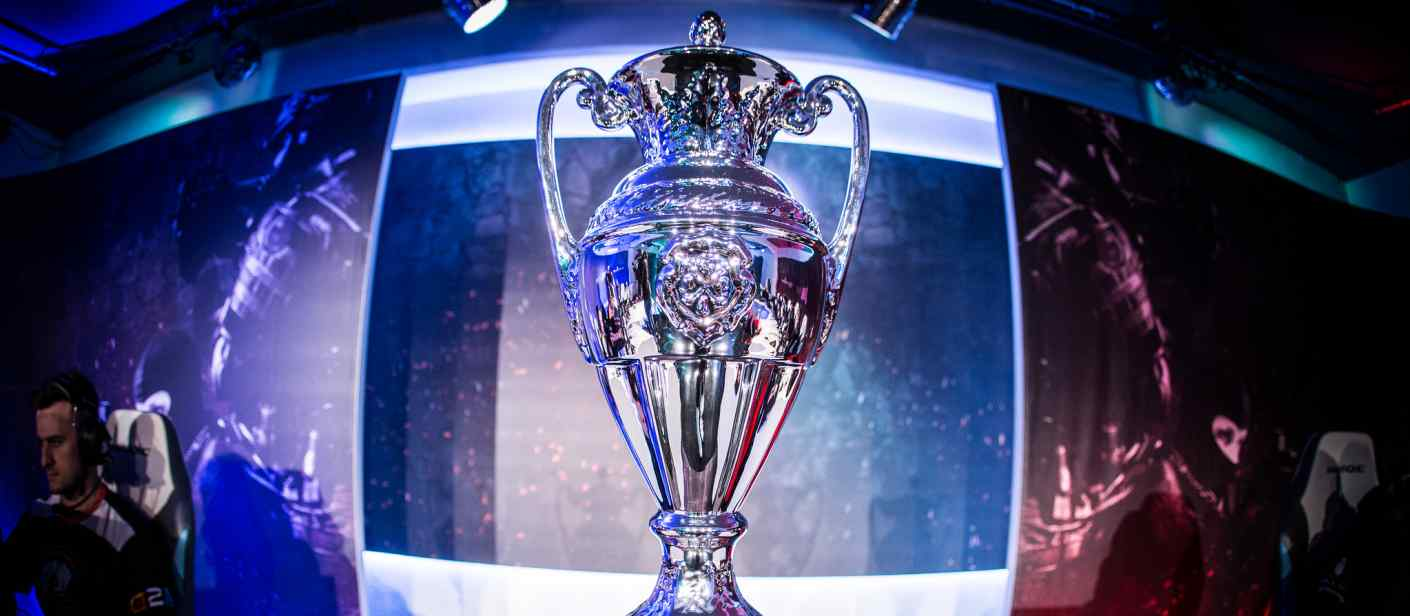trophy: (534, 5, 876, 616)
